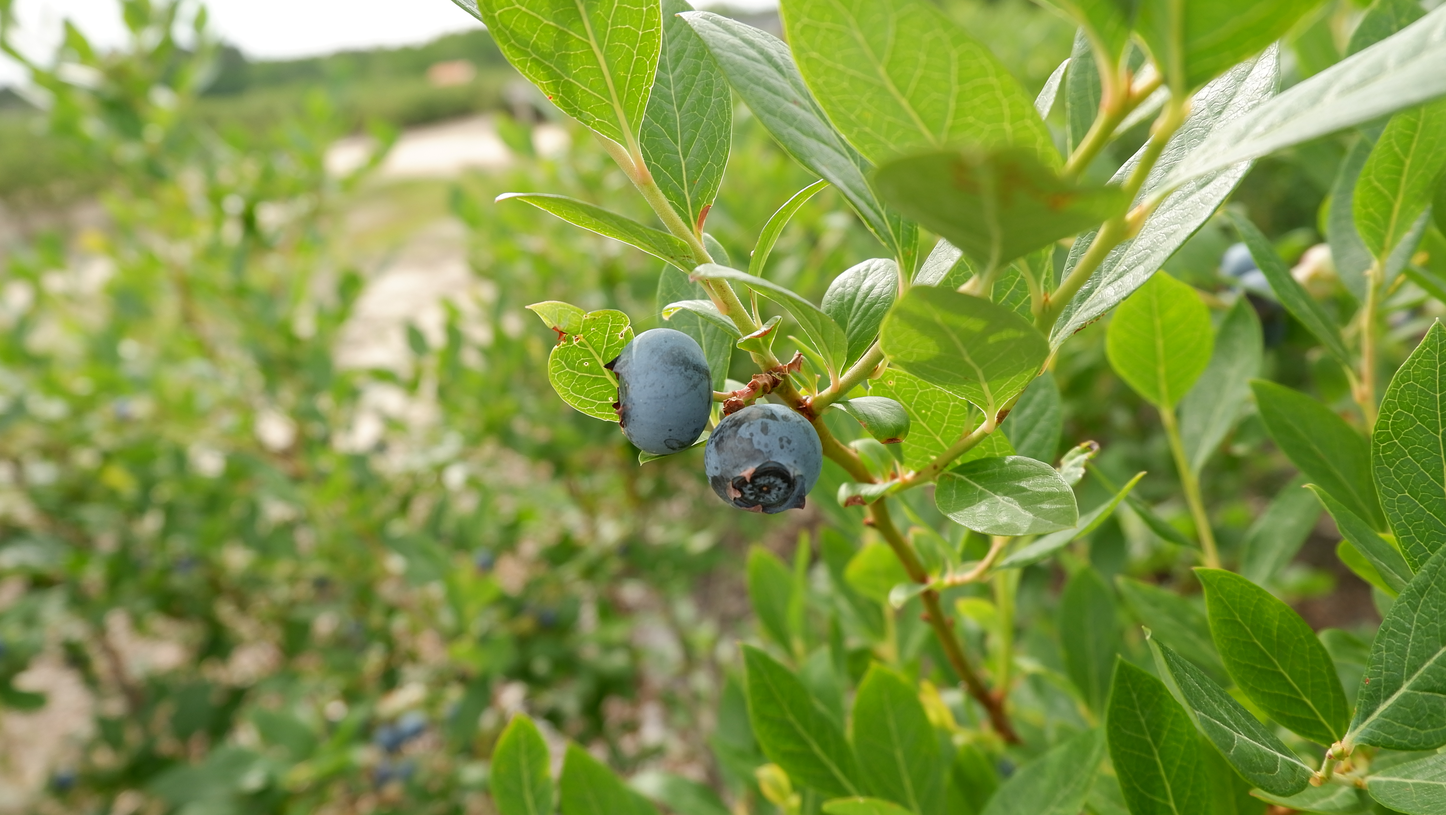Mature: (604, 328, 715, 455), (704, 403, 824, 515)
